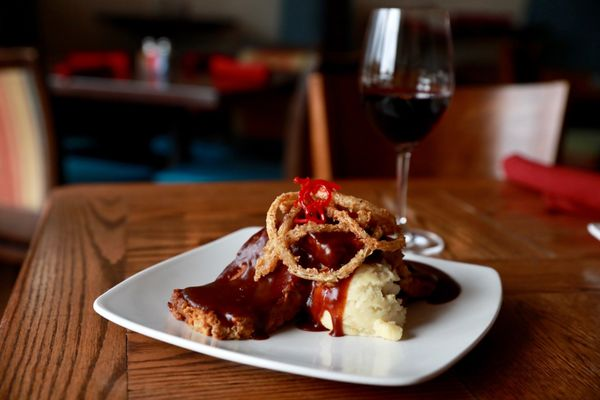curry: (15, 66, 598, 396), (1, 169, 592, 393)
sandwich: (358, 4, 456, 256)
sushi: (169, 178, 413, 343)
